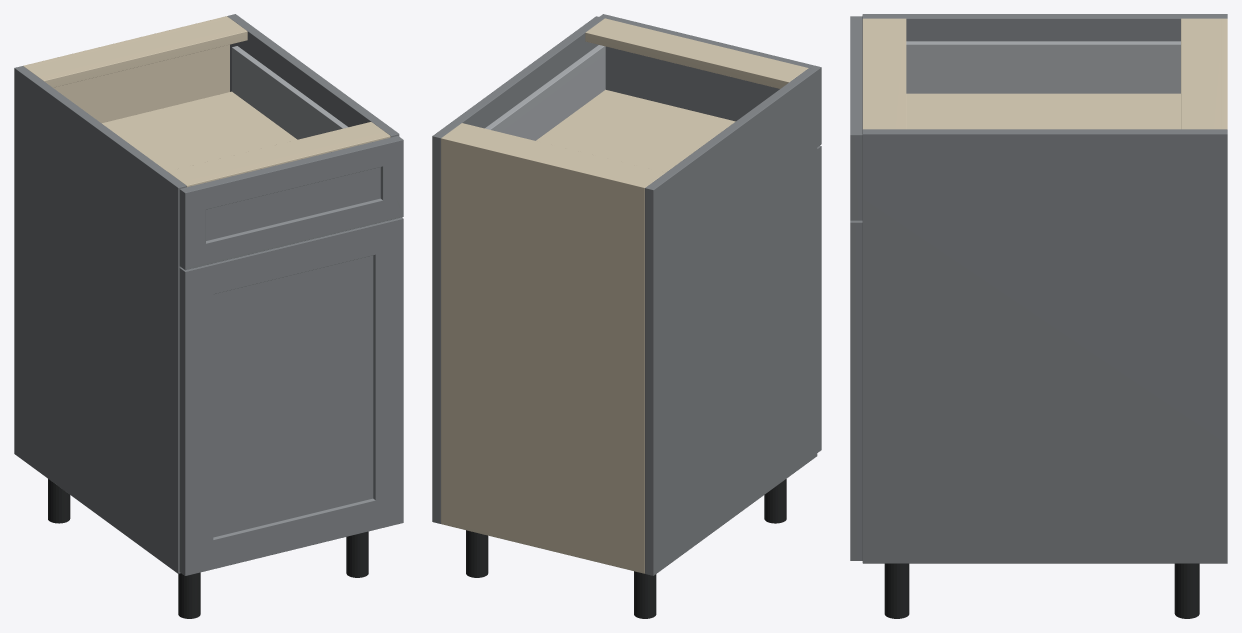
Rendered from oppein-ply-gss-btc18.glb.
3 views of the same model, side by side, from view 1: azimuth 30°, elevation 25°; view 2: azimuth 150°, elevation 25°; view 3: azimuth 270°, elevation 25° (orthographic). The views are drawn at different scales.
Visible parts, largest first — view 1: Door, Cabinet side, Drawer front, Drawer floor, Cabinet back, Top support rail, Drawer side.001, Top support rail.001, Cabinet side.001, Adjustable foot.001, Adjustable foot.003, Adjustable foot; view 2: Cabinet back, Cabinet side, Drawer floor, Drawer front, Cabinet side.001, Top support rail.001, Drawer side.001, Top support rail, Door, Adjustable foot, Adjustable foot.002, Adjustable foot.001; view 3: Cabinet side.001, Drawer side, Drawer floor, Cabinet side, Top support rail.001, Top support rail, Door, Drawer front, Adjustable foot.002, Adjustable foot.003, Cabinet back.
Boxes of the visible parts, bbox=[...] form: Door: bbox=[179, 217, 403, 575]; Cabinet side: bbox=[14, 66, 186, 573]; Drawer front: bbox=[179, 136, 403, 270]; Drawer floor: bbox=[102, 91, 297, 171]; Cabinet back: bbox=[23, 16, 229, 123]; Top support rail: bbox=[25, 18, 247, 87]; Drawer side.001: bbox=[232, 46, 348, 139]; Top support rail.001: bbox=[167, 122, 390, 187]; Cabinet side.001: bbox=[227, 14, 399, 137]; Adjustable foot.001: bbox=[178, 572, 200, 618]; Adjustable foot.003: bbox=[346, 531, 368, 577]; Adjustable foot: bbox=[48, 479, 70, 523]; Cabinet back: bbox=[441, 136, 647, 573]; Cabinet side: bbox=[645, 68, 817, 575]; Drawer floor: bbox=[536, 89, 735, 172]; Drawer front: bbox=[599, 14, 821, 146]; Cabinet side.001: bbox=[432, 16, 604, 523]; Top support rail.001: bbox=[585, 18, 808, 88]; Drawer side.001: bbox=[485, 45, 605, 140]; Top support rail: bbox=[444, 123, 665, 185]; Door: bbox=[817, 145, 821, 452]; Adjustable foot: bbox=[634, 571, 656, 618]; Adjustable foot.002: bbox=[466, 530, 488, 577]; Adjustable foot.001: bbox=[764, 479, 786, 523]; Cabinet side.001: bbox=[862, 129, 1227, 563]; Drawer side: bbox=[906, 41, 1180, 93]; Drawer floor: bbox=[906, 93, 1180, 129]; Cabinet side: bbox=[862, 14, 1227, 41]; Top support rail.001: bbox=[862, 18, 906, 129]; Top support rail: bbox=[1181, 18, 1220, 129]; Door: bbox=[850, 220, 862, 560]; Drawer front: bbox=[850, 16, 862, 220]; Adjustable foot.002: bbox=[1174, 563, 1199, 618]; Adjustable foot.003: bbox=[884, 563, 909, 618]; Cabinet back: bbox=[1220, 18, 1227, 129].
Bounding box in the file's own units: 0.4572 × 0.8763 × 0.6064.
